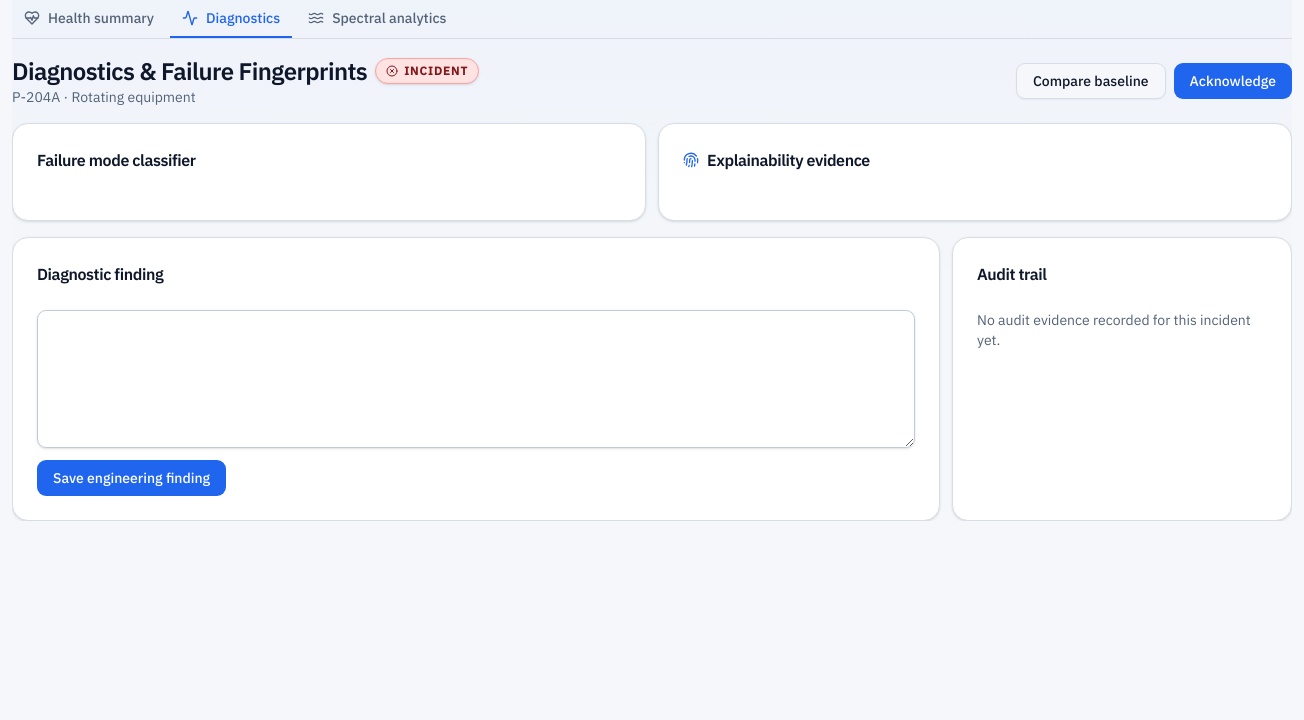
Test: workspace branch coverage › drives the diagnostic workspace when no baseline or incident is loaded
The width and height of the screenshot is (1304, 720).
Step 1. Click the button "Compare baseline" → (1091, 81), box [1016, 63, 1166, 99]
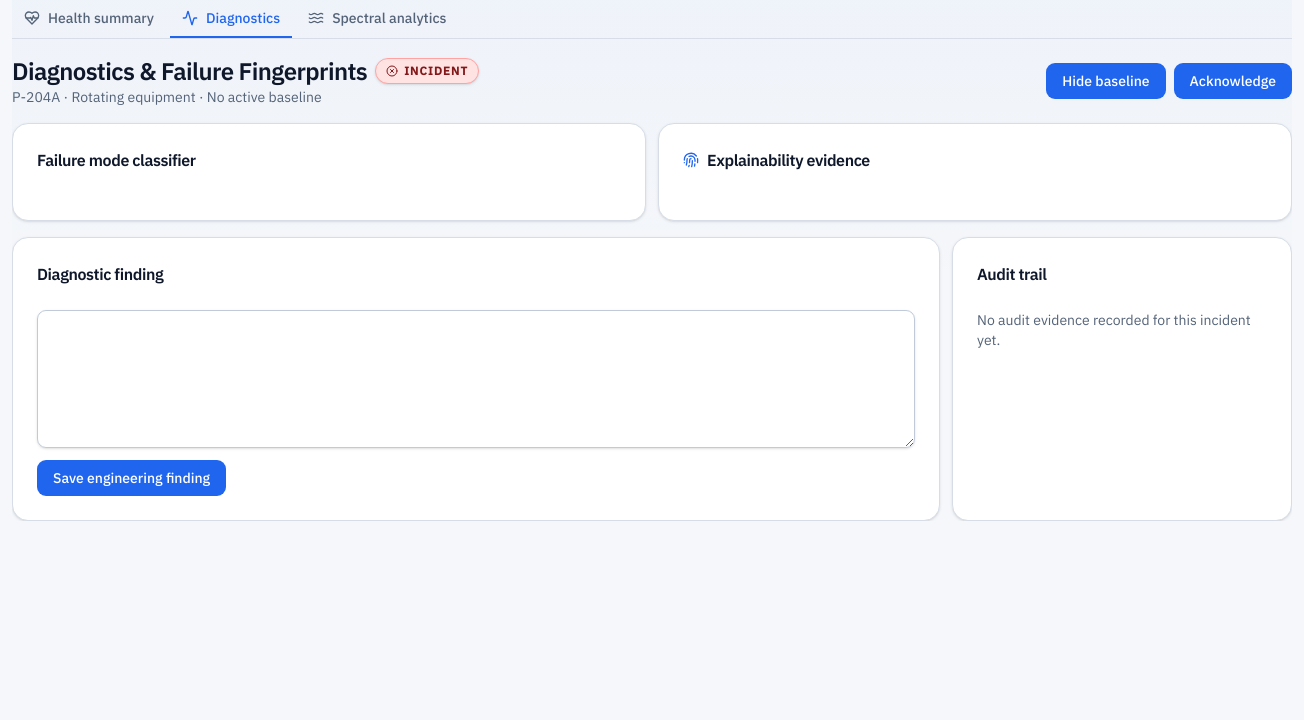
Result: the text "P-204A · Rotating equipment · No active baseline" is shown at [12, 88, 322, 106]
